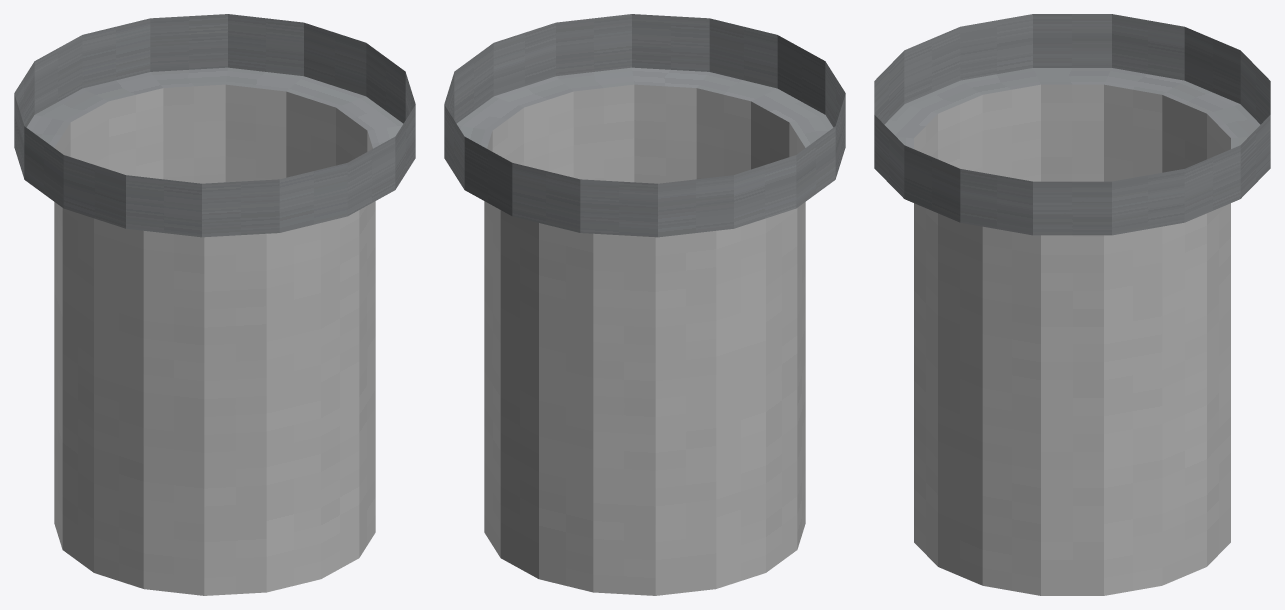
File: connection_2.obj
The picture shows the model from 3 angles, left to right: view 1: azimuth 30°, elevation 25°; view 2: azimuth 150°, elevation 25°; view 3: azimuth 270°, elevation 25°; orthographic projection.
Bounding box in the file's own units: 0.625 × 0.75 × 0.625.
